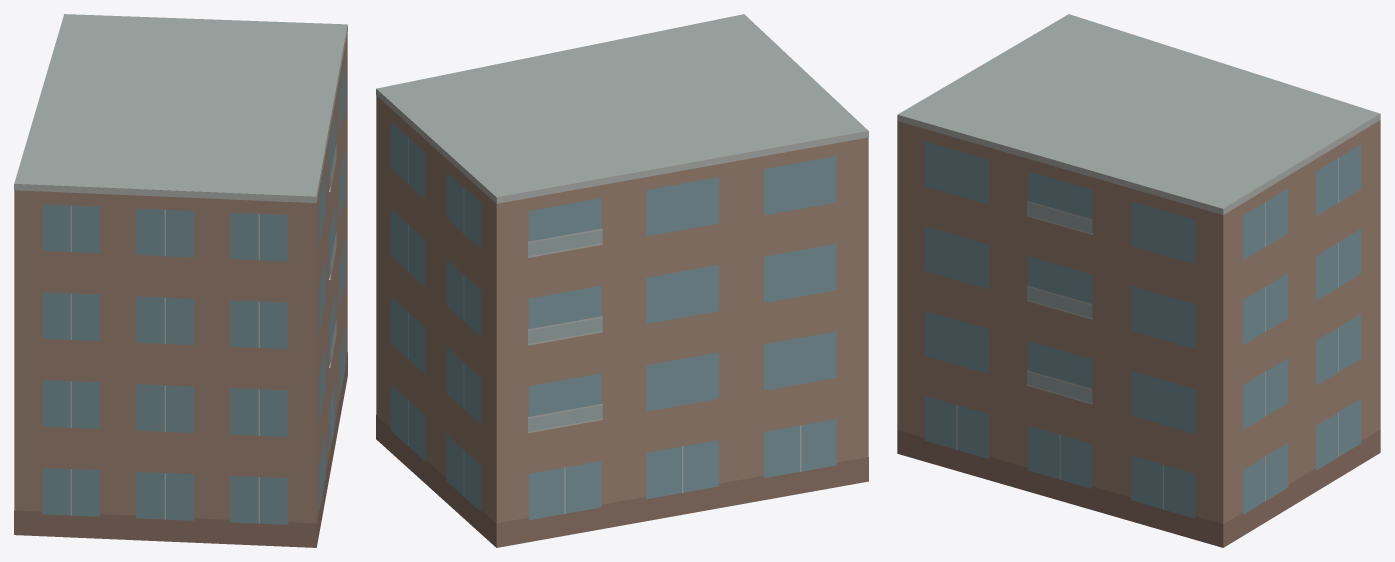
The model's file is survey-upis-32754838.glb.
3 renders of one model, left to right at view 1: azimuth 30°, elevation 25°; view 2: azimuth 150°, elevation 25°; view 3: azimuth 270°, elevation 25°, orthographic. The views are drawn at different scales.
Visible parts, largest first — view 1: survey-upis-32754838.tmp; view 2: survey-upis-32754838.tmp; view 3: survey-upis-32754838.tmp.
Boxes of the visible parts, box(x1,y1,x2,y2) form: survey-upis-32754838.tmp: box(14, 14, 347, 547); survey-upis-32754838.tmp: box(376, 14, 868, 547); survey-upis-32754838.tmp: box(897, 14, 1380, 547).
Size of the model in its own units: 16.28 by 13.2 by 17.06.
